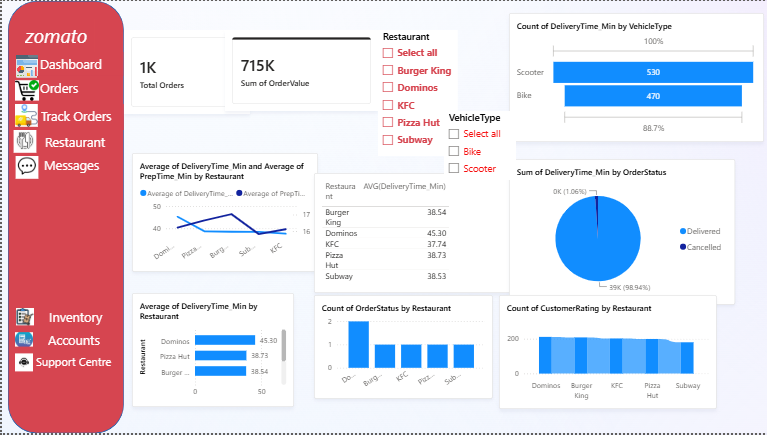

Layout of this report page (visuals, bound fields, positions):
{"tool":"powerbi","page":{"name":"Page 1","canvas":[1280,720],"ordinal":0},"visuals":[{"type":"shape","box":[10.1,0,193.2,720.6],"z":0},{"type":"textbox","box":[33.6,30.2,120.9,55.4],"z":1000},{"type":"textbox","box":[58.8,85.7,144.5,38.6],"z":2000},{"type":"image","box":[20.8,90,40,38],"z":3000},{"type":"textbox","box":[58.3,125,121.7,46.7],"z":4000},{"type":"image","box":[21.7,130,40,38],"z":5000},{"type":"textbox","box":[60,171.7,143.3,43.3],"z":6000},{"type":"image","box":[21.7,171.7,38.3,38],"z":7000},{"type":"textbox","box":[66.7,215,113.3,48.3],"z":8000},{"type":"image","box":[18.3,215,40,38],"z":9000},{"type":"textbox","box":[65,253.3,115,43.3],"z":10000},{"type":"image","box":[21.7,258.3,40,38.3],"z":11000},{"type":"textbox","box":[73.3,506.7,106.7,38.3],"z":12000},{"type":"textbox","box":[71.7,545,108.3,38.3],"z":13000},{"type":"textbox","box":[51.7,583.3,143.3,38.3],"z":14000},{"type":"image","box":[21.7,545,30,38.3],"z":15000},{"type":"image","box":[21.7,583.3,30,38.3],"z":16000},{"type":"image","box":[23.3,506.7,30,38.3],"z":17000},{"type":"cardVisual","fields":{"Data":["CountNonNull(food_delivery_business_analyst_dataset.OrderID)"]},"box":[203.3,48.3,210,140],"z":18000},{"type":"cardVisual","fields":{"Data":["Sum(food_delivery_business_analyst_dataset.OrderValue)"]},"box":[371.7,48.3,255,135],"z":19000},{"type":"lineChart","fields":{"Y":["Avg(food_delivery_business_analyst_dataset.DeliveryTime_Min)"],"Y2":["Avg(food_delivery_business_analyst_dataset.PrepTime_Min)"],"Category":["food_delivery_business_analyst_dataset.Restaurant"]},"box":[216.7,253.3,310,198.3],"z":20000},{"type":"tableEx","fields":{"Values":["Zomato 1.Restaurant","Zomato 1.AVG(DeliveryTime_Min)"]},"box":[520,286.7,336.7,200],"z":21000},{"type":"clusteredBarChart","fields":{"Category":["food_delivery_business_analyst_dataset.Restaurant"],"Y":["Avg(food_delivery_business_analyst_dataset.DeliveryTime_Min)"]},"box":[216.7,486.7,270,190],"z":22000},{"type":"clusteredColumnChart","fields":{"Category":["food_delivery_business_analyst_dataset.Restaurant"],"Y":["Count(food_delivery_business_analyst_dataset.OrderStatus)"]},"box":[520,490,298.3,173.3],"z":23000},{"type":"pieChart","fields":{"Category":["food_delivery_business_analyst_dataset.OrderStatus"],"Y":["Sum(food_delivery_business_analyst_dataset.DeliveryTime_Min)"]},"box":[845,263.3,376.7,243.3],"z":24000},{"type":"ribbonChart","fields":{"Category":["food_delivery_business_analyst_dataset.Restaurant"],"Y":["CountNonNull(food_delivery_business_analyst_dataset.CustomerRating)"]},"box":[828.3,490,363.3,190],"z":25000},{"type":"slicer","fields":{"Values":["Zomato 1.Restaurant"]},"box":[626.7,48.3,133.3,210],"z":26000},{"type":"funnel","fields":{"Category":["food_delivery_business_analyst_dataset.VehicleType"],"Y":["CountNonNull(food_delivery_business_analyst_dataset.DeliveryTime_Min)"]},"box":[845,20,425,215],"z":27000},{"type":"slicer","fields":{"Values":["food_delivery_business_analyst_dataset.VehicleType"]},"box":[736.7,183.3,120,115],"z":27001}]}

Visuals, with their boxes in screenshot pixels (x1, y1, x2, y2):
shape: 4, 6, 123, 434
textbox: 19, 24, 93, 58
textbox: 34, 58, 123, 82
image: 11, 61, 35, 84
textbox: 34, 83, 108, 111
image: 11, 86, 36, 109
textbox: 35, 111, 123, 138
image: 11, 111, 35, 134
textbox: 39, 138, 108, 167
image: 9, 138, 34, 161
textbox: 38, 161, 108, 188
image: 11, 164, 36, 188
textbox: 43, 316, 108, 340
textbox: 42, 340, 108, 363
textbox: 30, 363, 117, 387
image: 11, 340, 30, 363
image: 11, 363, 30, 387
image: 12, 316, 31, 340
cardVisual - CountNonNull(food_delivery_business_analyst_dataset.OrderID): 123, 36, 251, 121
cardVisual - Sum(food_delivery_business_analyst_dataset.OrderValue): 226, 36, 382, 118
lineChart - Avg(food_delivery_business_analyst_dataset.DeliveryTime_Min) x Avg(food_delivery_business_analyst_dataset.PrepTime_Min): 131, 161, 321, 283
tableEx - Zomato 1.Restaurant x Zomato 1.AVG(DeliveryTime_Min): 317, 182, 523, 304
clusteredBarChart - food_delivery_business_analyst_dataset.Restaurant x Avg(food_delivery_business_analyst_dataset.DeliveryTime_Min): 131, 304, 296, 421
clusteredColumnChart - food_delivery_business_analyst_dataset.Restaurant x Count(food_delivery_business_analyst_dataset.OrderStatus): 317, 306, 499, 412
pieChart - food_delivery_business_analyst_dataset.OrderStatus x Sum(food_delivery_business_analyst_dataset.DeliveryTime_Min): 516, 167, 746, 316
ribbonChart - food_delivery_business_analyst_dataset.Restaurant x CountNonNull(food_delivery_business_analyst_dataset.CustomerRating): 505, 306, 728, 423
slicer - Zomato 1.Restaurant: 382, 36, 464, 164
funnel - food_delivery_business_analyst_dataset.VehicleType x CountNonNull(food_delivery_business_analyst_dataset.DeliveryTime_Min): 516, 18, 766, 150
slicer - food_delivery_business_analyst_dataset.VehicleType: 449, 118, 523, 189
